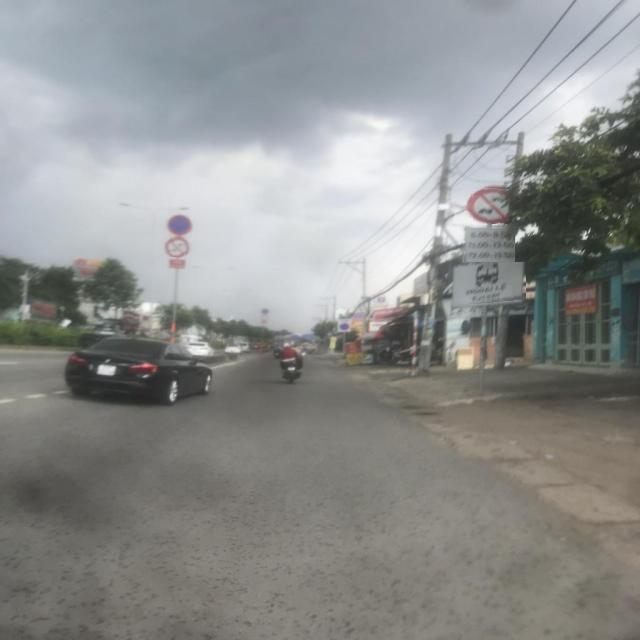107-cam-oto-khach-va-oto-tai: (464, 186, 509, 224)
